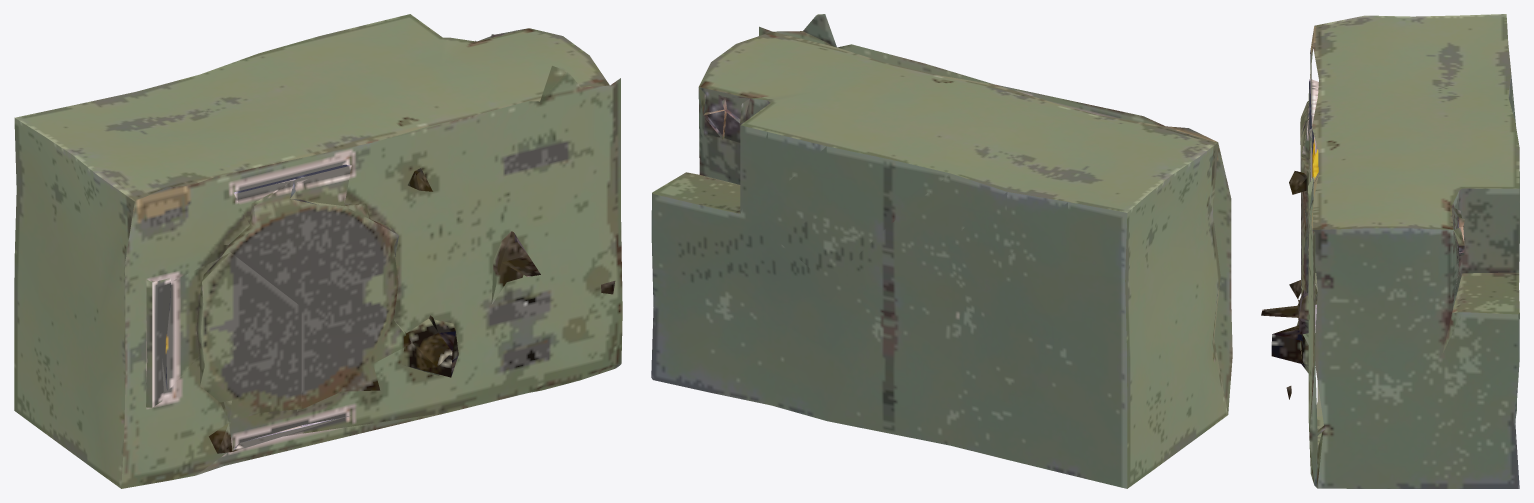
The model's file is vintage_spacecraft_instrument.glb.
3 renders of one model, left to right at view 1: azimuth 30°, elevation 25°; view 2: azimuth 150°, elevation 25°; view 3: azimuth 270°, elevation 25°, orthographic. The views are drawn at different scales.
Parts seen in each view (by area): view 1: mesh; view 2: mesh; view 3: mesh.
Part boxes in pixels (left/top/right/bottom): mesh: left=14, top=14, right=622, bottom=488; mesh: left=651, top=14, right=1232, bottom=488; mesh: left=1261, top=14, right=1519, bottom=488.
Size of the model in its own units: 0.4373 by 0.2693 by 0.2206.
Materials: 1 (1 with a texture image).
